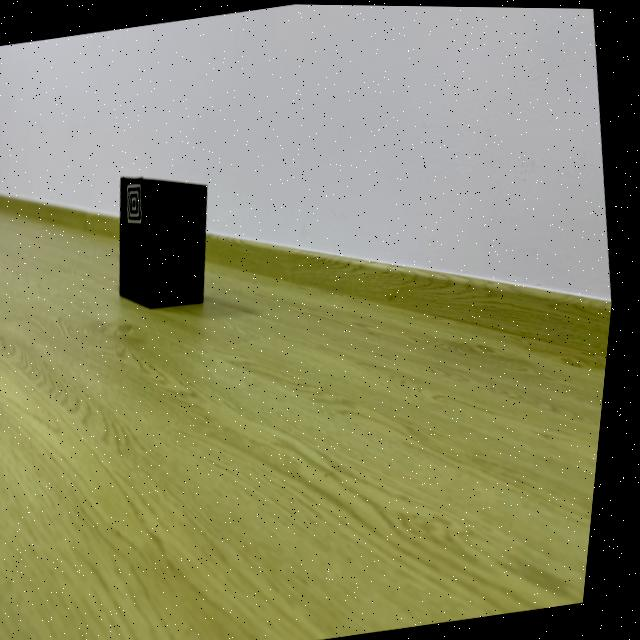BULLSEYE: (129, 176, 150, 230)
